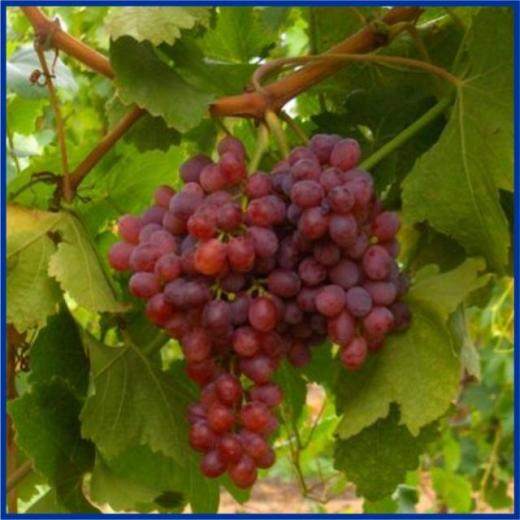Orange: (107, 133, 412, 489)
